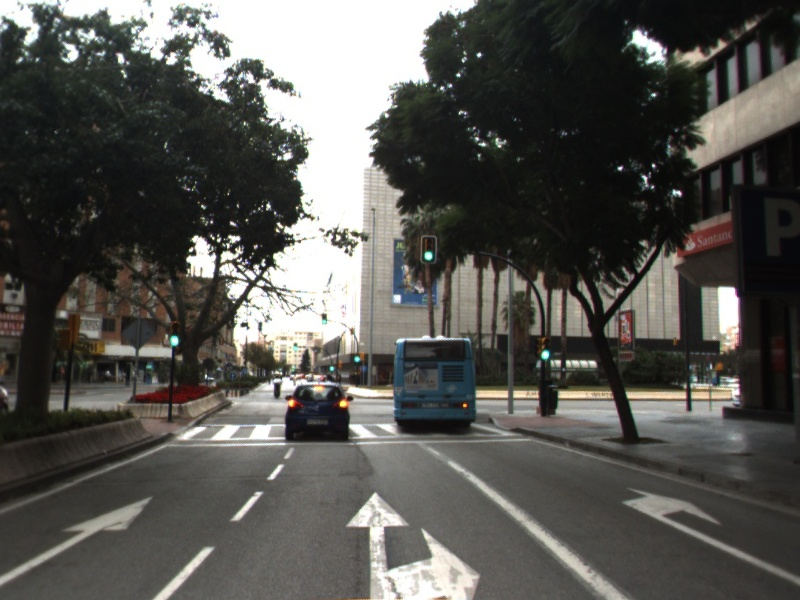RIGHT: (619, 484, 800, 585)
STRAIGHT: (1, 492, 157, 586)
STRAIGHT_RIGHT: (342, 486, 484, 600)
